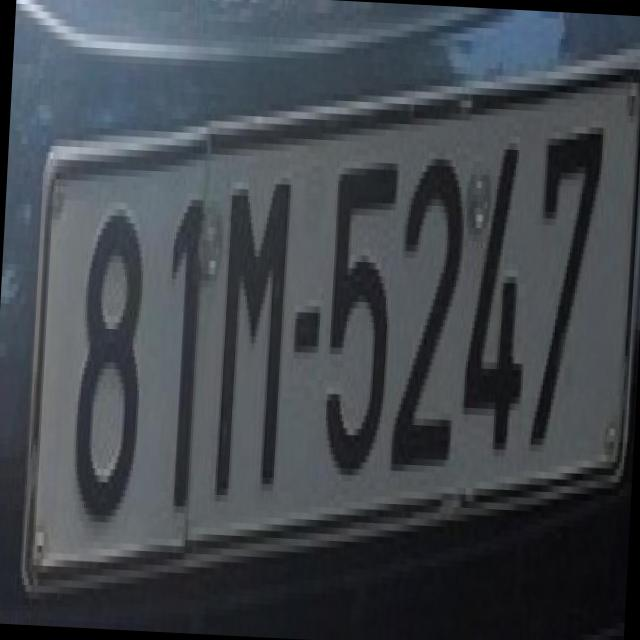1: (146, 172, 218, 514)
2: (384, 138, 475, 460)
4: (452, 120, 543, 458)
5: (310, 140, 407, 478)
7: (522, 111, 611, 448)
8: (59, 187, 154, 518)
M: (206, 161, 299, 499)
